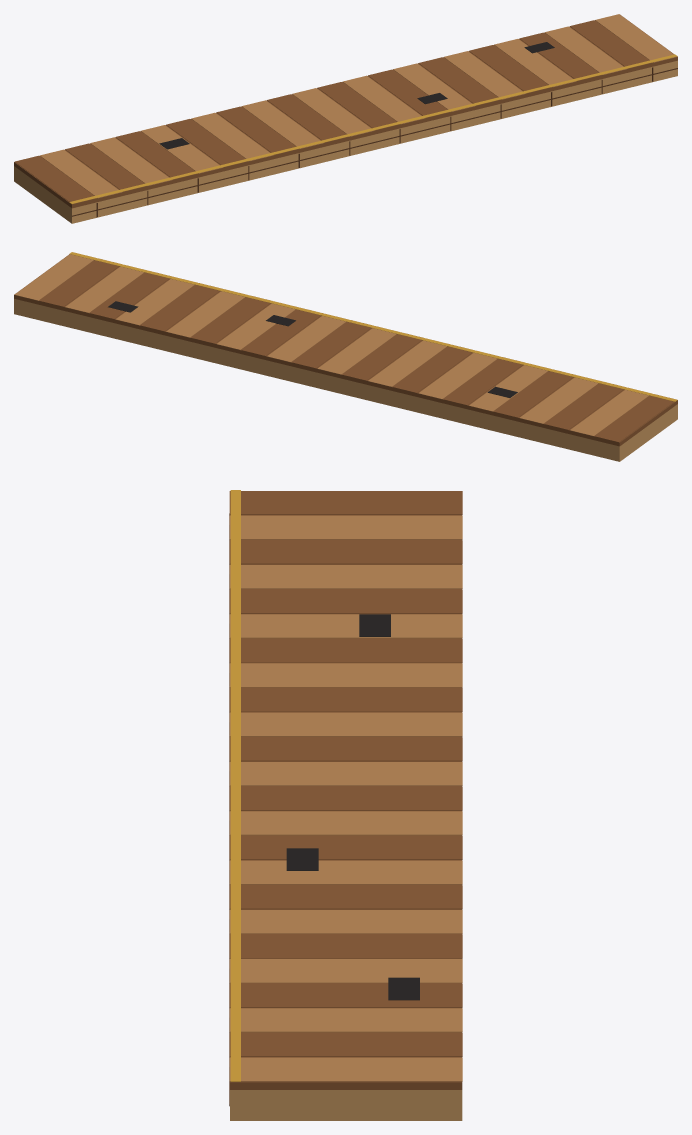
Rendered from LobbyPlatform.fbx.
3 renders of one model, top to bottom at view 1: azimuth 30°, elevation 25°; view 2: azimuth 150°, elevation 25°; view 3: azimuth 270°, elevation 25°, orthographic. The views are drawn at different scales.
Parts seen in each view (by area): view 1: Detail, Base, Deck; view 2: Detail, Base, Deck; view 3: Detail, Deck, Base.
Part boxes in pixels (x1,y1,x2,y2): Detail: [15, 14, 677, 217]; Base: [14, 60, 677, 223]; Deck: [14, 14, 677, 208]; Detail: [15, 252, 677, 442]; Base: [14, 298, 677, 461]; Deck: [14, 254, 677, 446]; Detail: [229, 490, 462, 1106]; Deck: [230, 515, 462, 1089]; Base: [230, 1090, 462, 1120].
Bounding box in the file's own units: 96 × 3 × 16.
